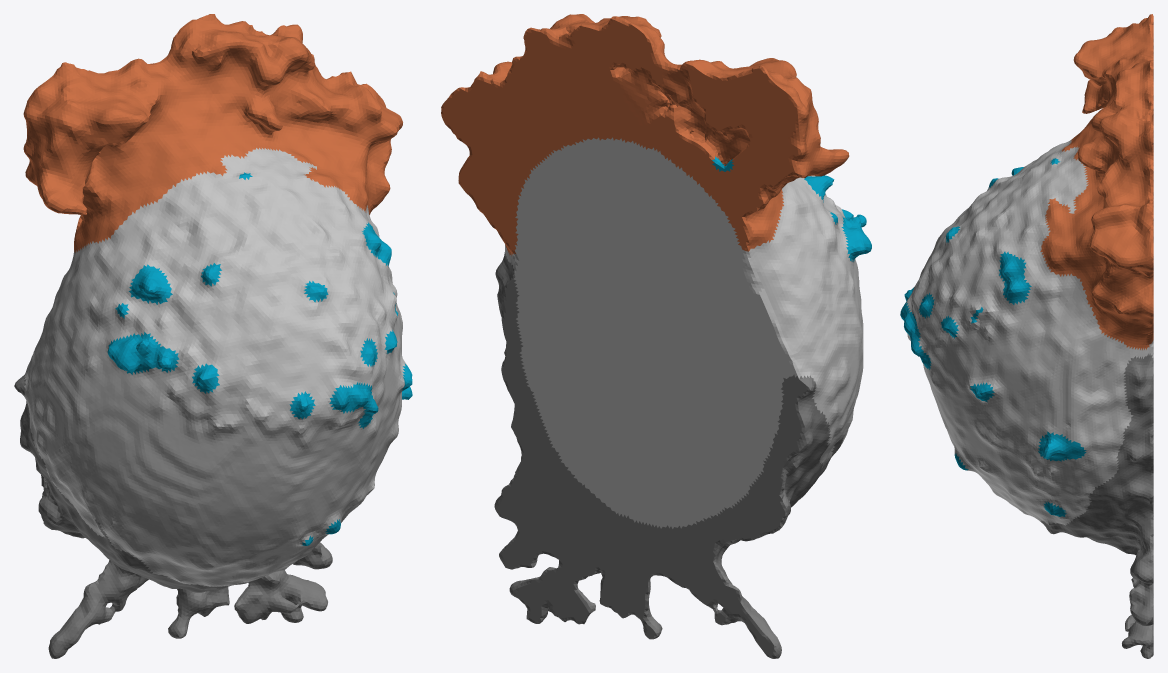
3 views of the same model, side by side, from view 1: azimuth 30°, elevation 25°; view 2: azimuth 150°, elevation 25°; view 3: azimuth 270°, elevation 25° (orthographic). The views are drawn at different scales.
Size of the model in its own units: 97.47 by 157 by 64.71.
